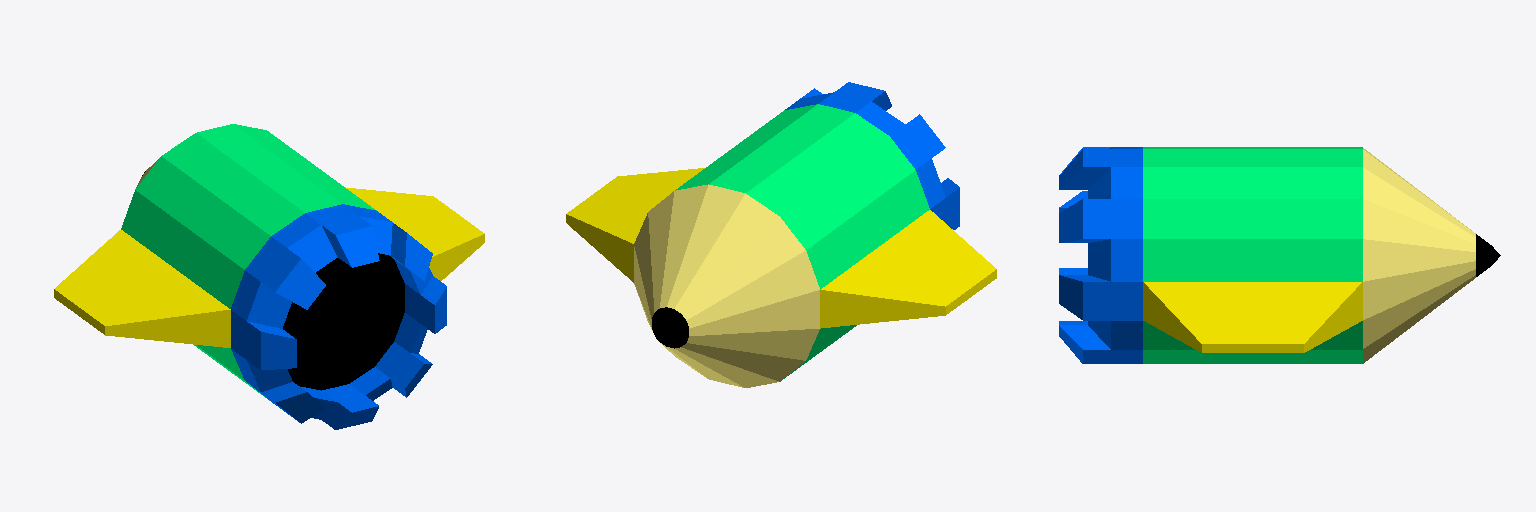
The picture shows the model from 3 angles: view 1: azimuth 30°, elevation 25°; view 2: azimuth 150°, elevation 25°; view 3: azimuth 270°, elevation 25°; orthographic projection.
Parts seen in each view (by area): view 1: Pencil_円柱; view 2: Pencil_円柱; view 3: Pencil_円柱.
Boxes of the visible parts, <box> form: Pencil_円柱: <box>54,124,484,429</box>; Pencil_円柱: <box>566,82,996,387</box>; Pencil_円柱: <box>1059,147,1500,363</box>.
Bounding box in the file's own units: 4 × 1.96 × 4.02.
1 materials, 1 textured.